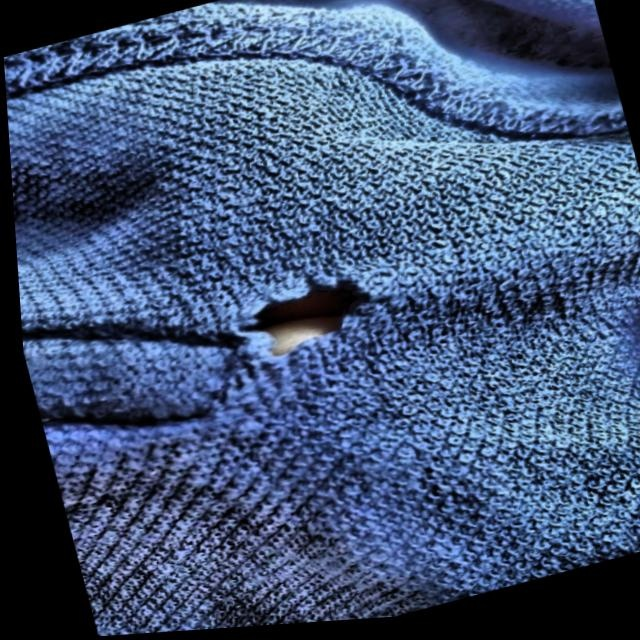Hole: (208, 239, 396, 397)
